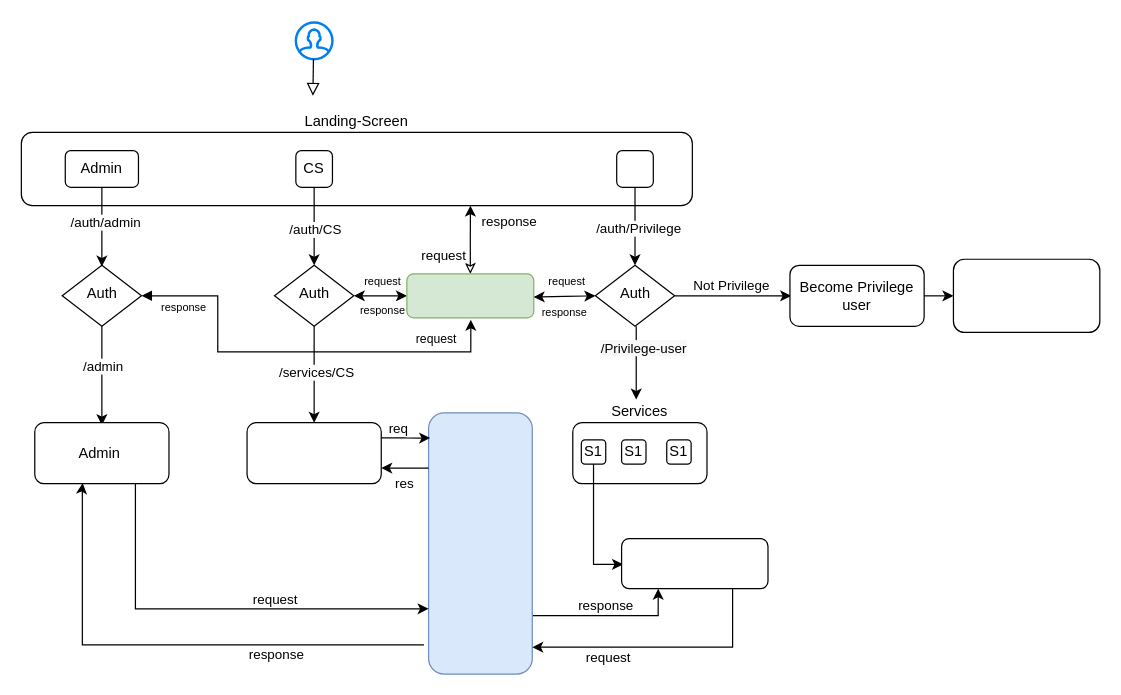
The diagram is 1121 pixels wide and 695 high, and some of its shapes have lost their labels. The shapes that lost their labels are listed below. From the top down, each one's centre as x and y in pixels, then its label:
At [634,168]: "PS".
At [470,295]: "DB".
At [1026,295]: "Register Privilege User".
At [313,453]: "CS-Services".
At [479,543]: "B L O C K C H A I N".
At [694,563]: "Privilege Service 1".
